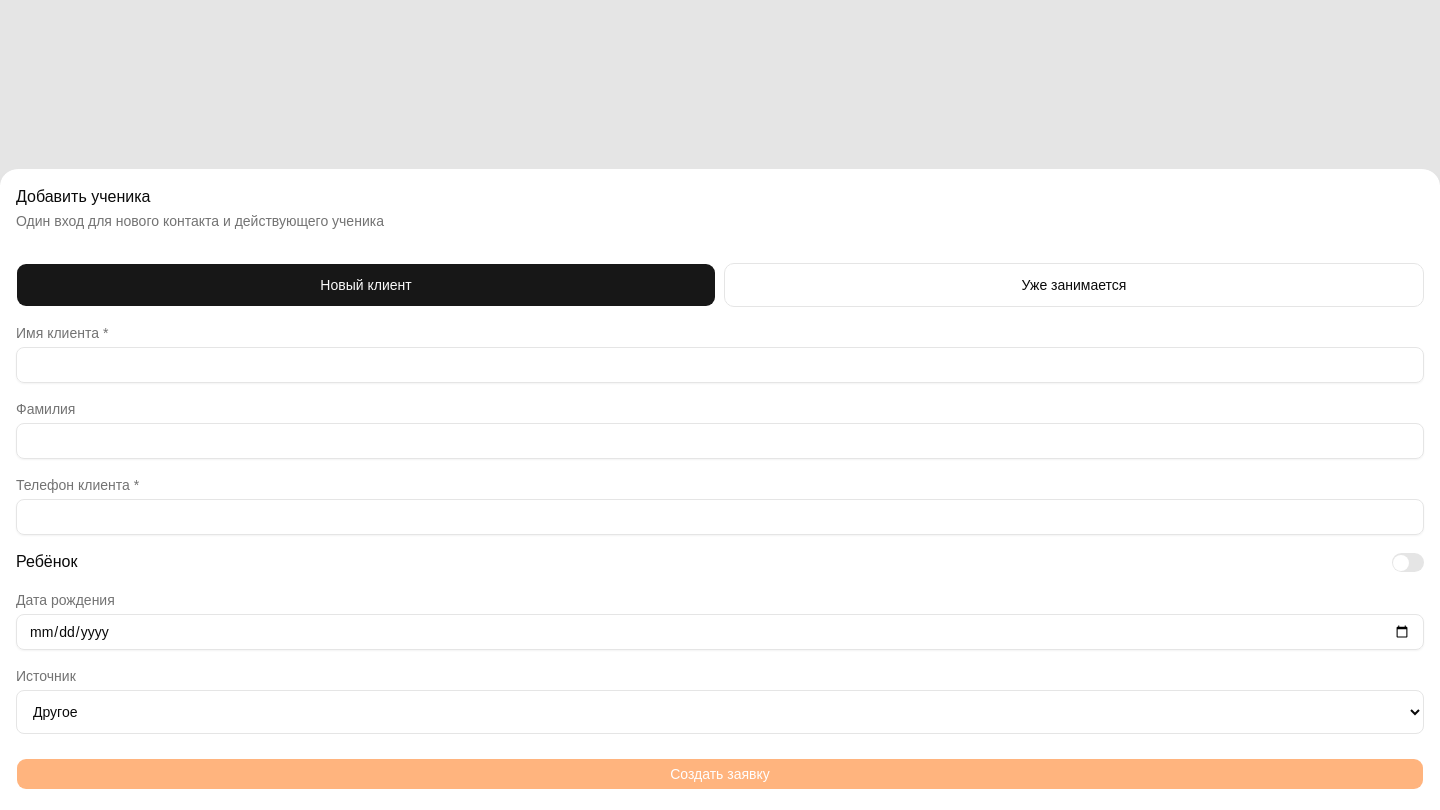
Test: ClientIntakeSheet › rotates the command key after editing a rejected persisted command
The image size is (1440, 810).
In the field labelled "Имя клиента *": (720,365) [16,347,1424,383], type "Иван"
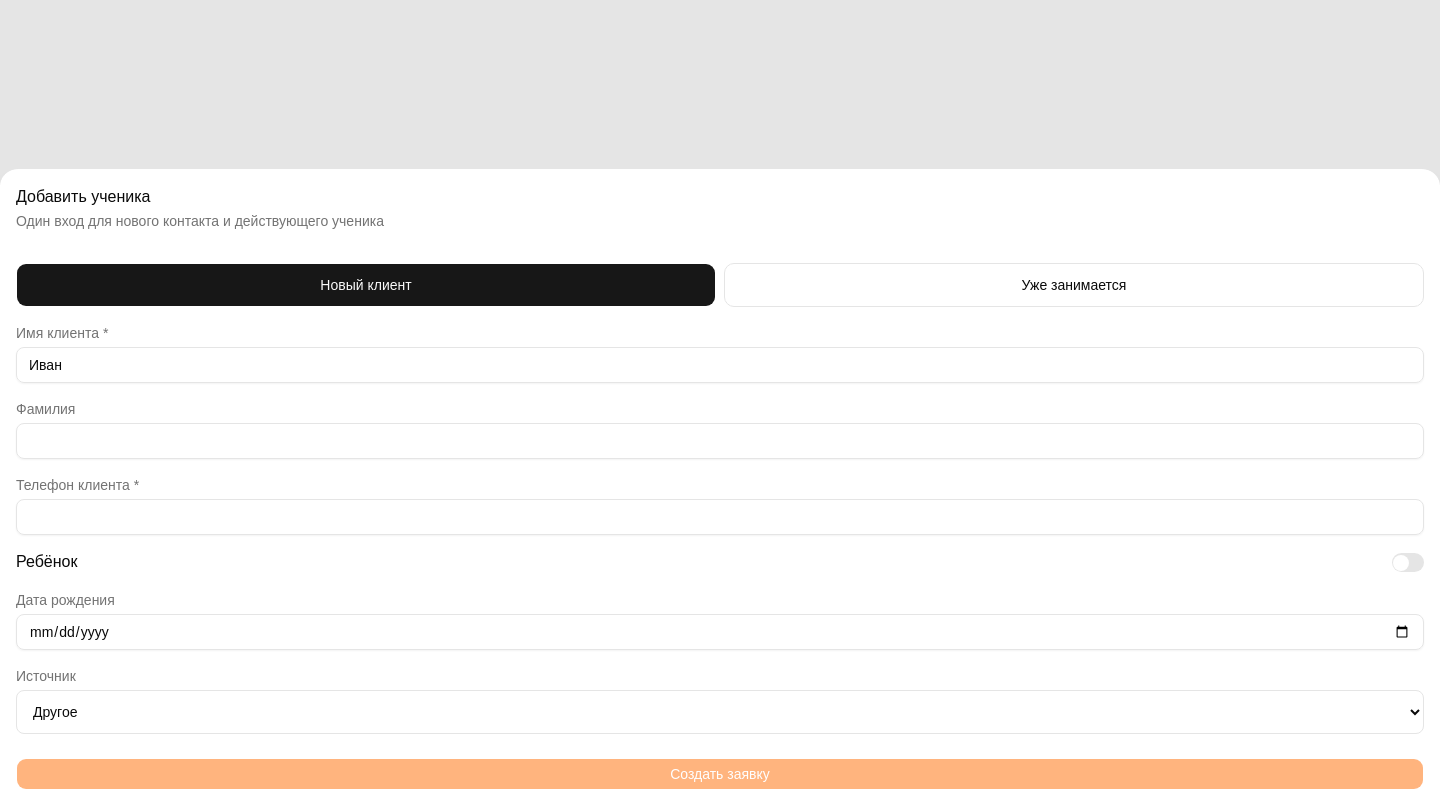
In the field labelled "Телефон клиента *": (720,517) [16,499,1424,535], type "+7 900 123-45-67"
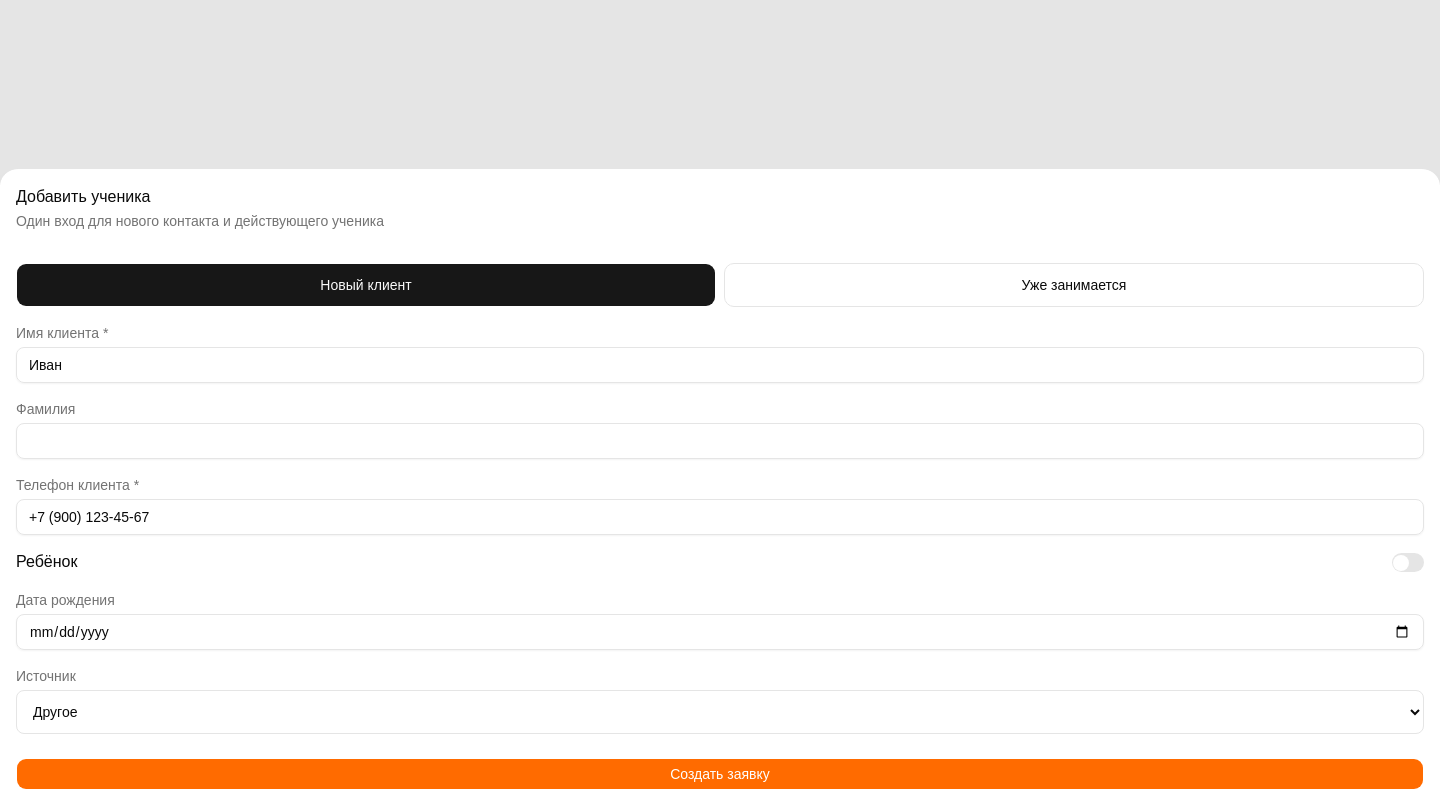
Click the button "Создать заявку": (720,774) [16,758,1424,790]
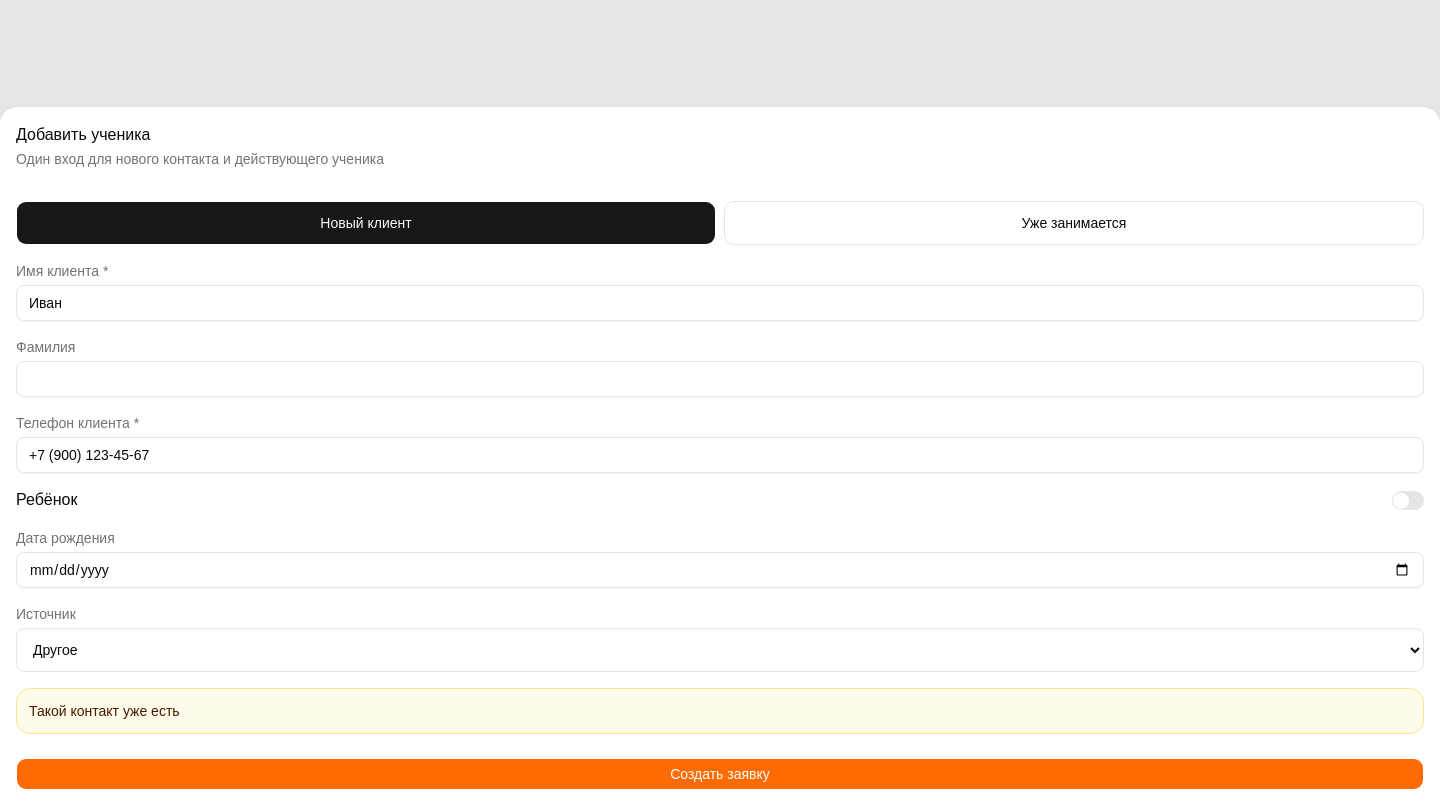
Expected: the text "Такой контакт уже есть" is shown, [29,703,180,719]
Replace the text in the field labelled "Телефон клиента *" with "+7 900 999-88-77": (720,455) [16,437,1424,473]
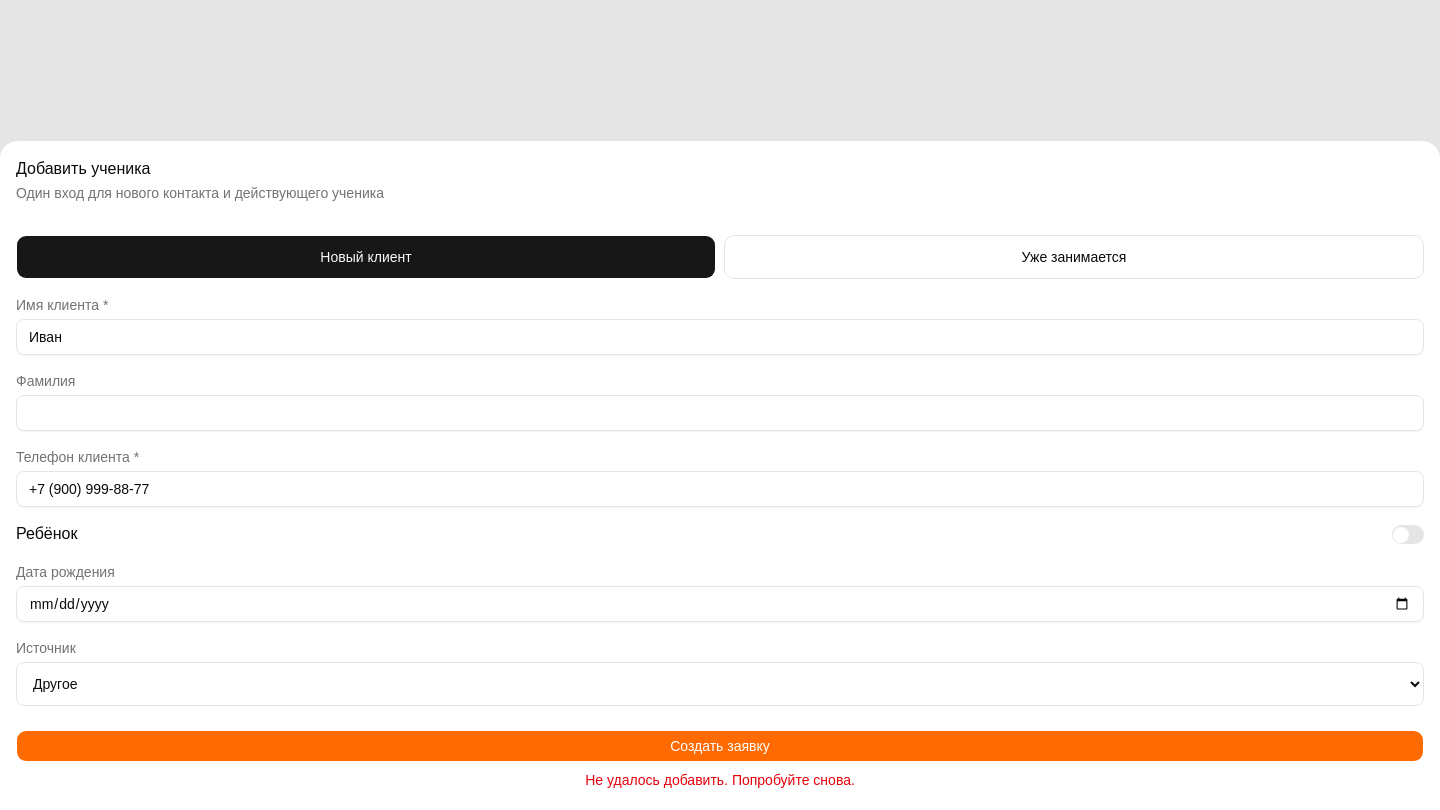
Click the button "Создать заявку": (720,746) [16,730,1424,762]
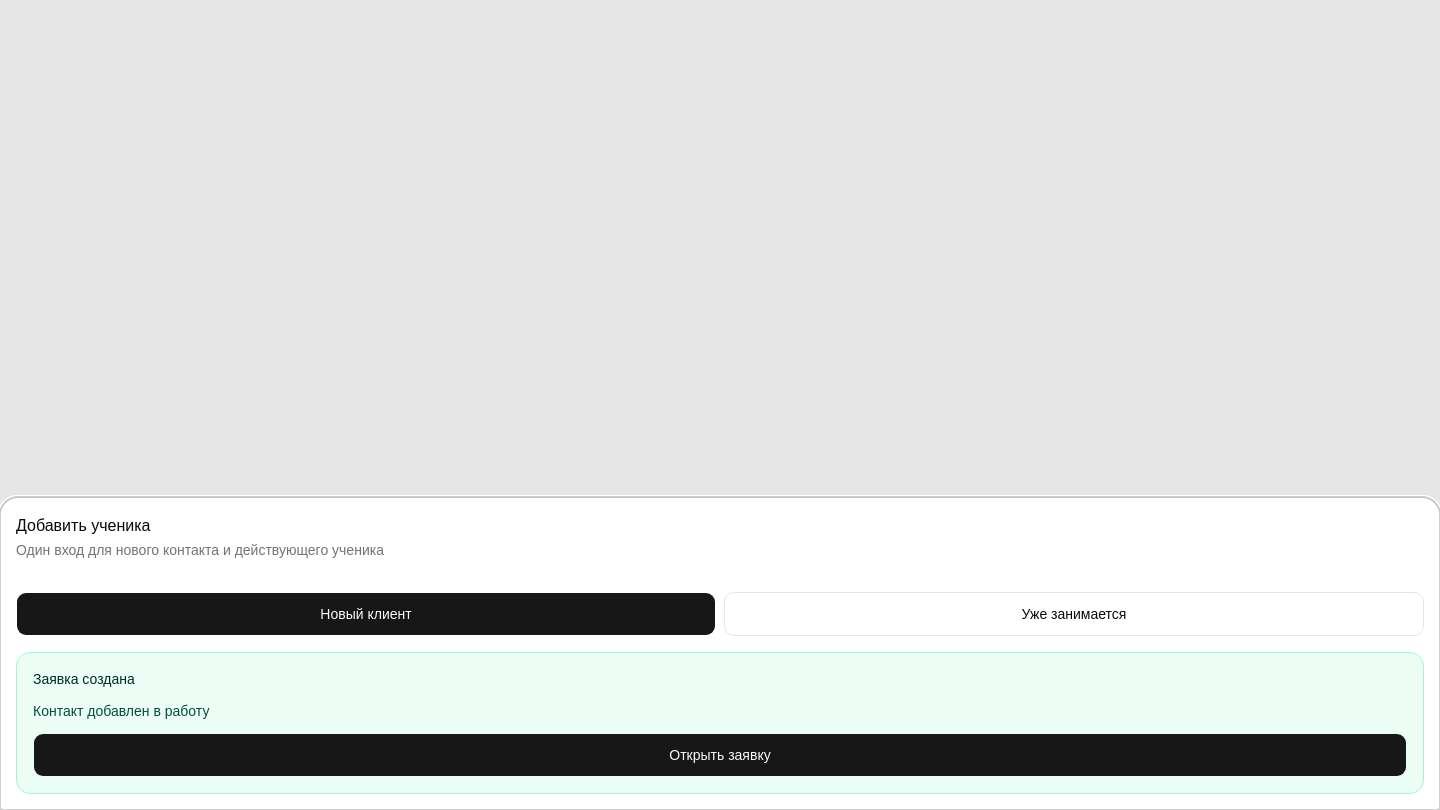
Expected: the text "Заявка создана" is shown, [33,671,135,687]
